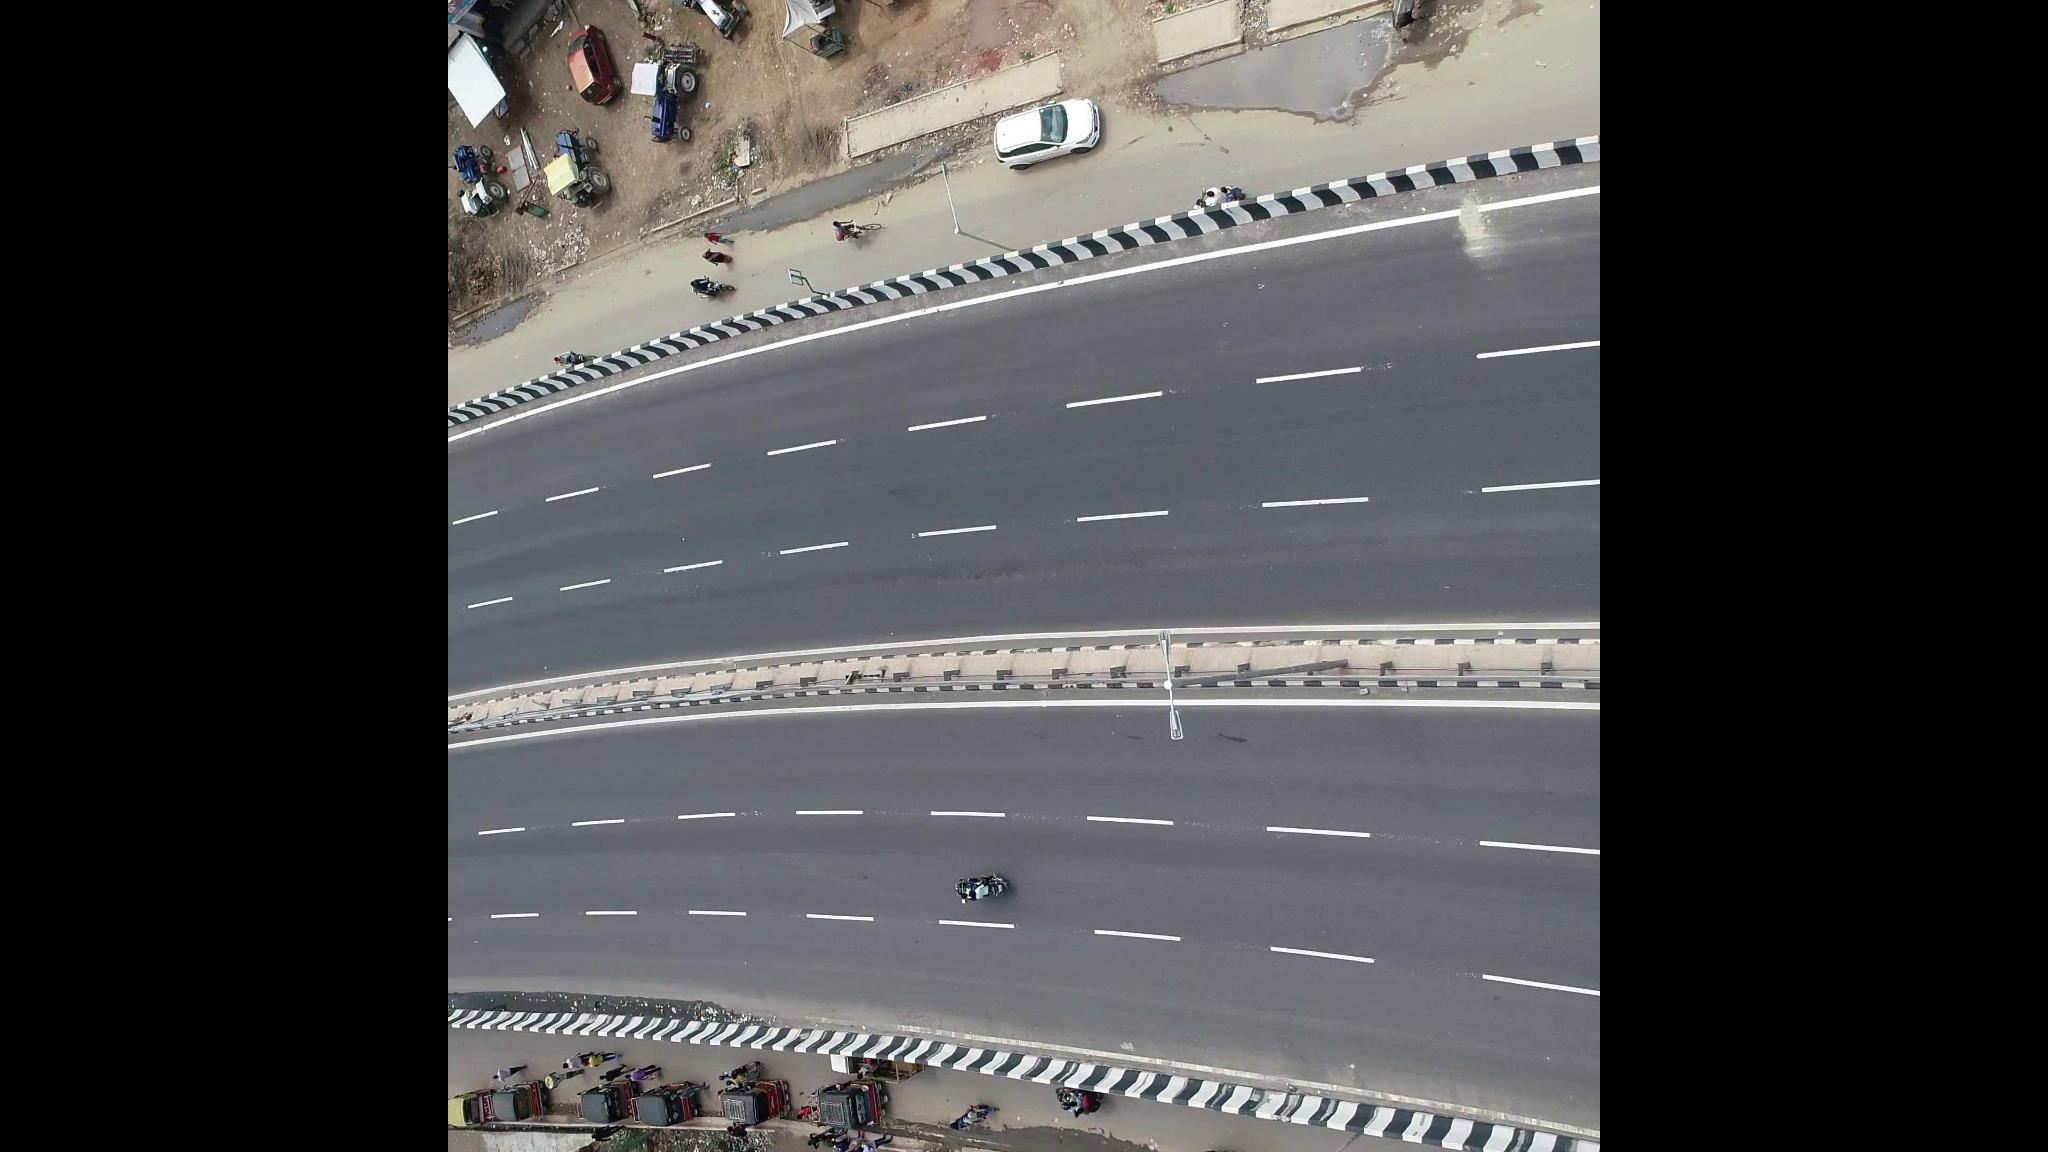Waterlogging: (1142, 41, 1412, 148)
